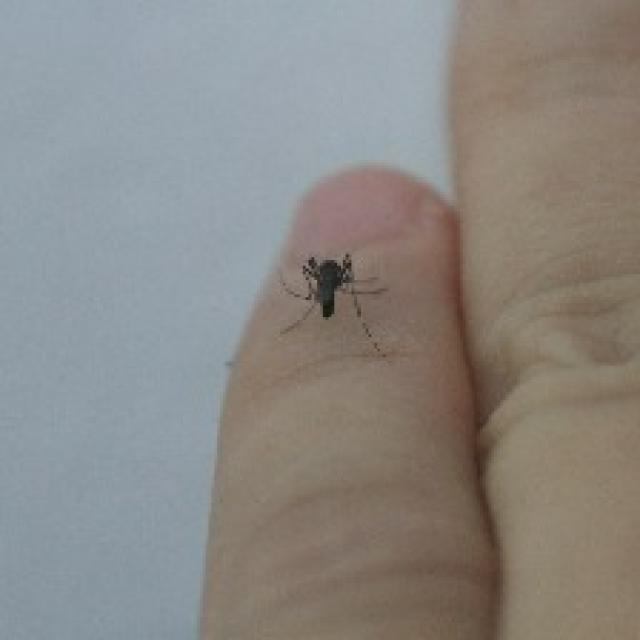aedes: (272, 249, 392, 360)
